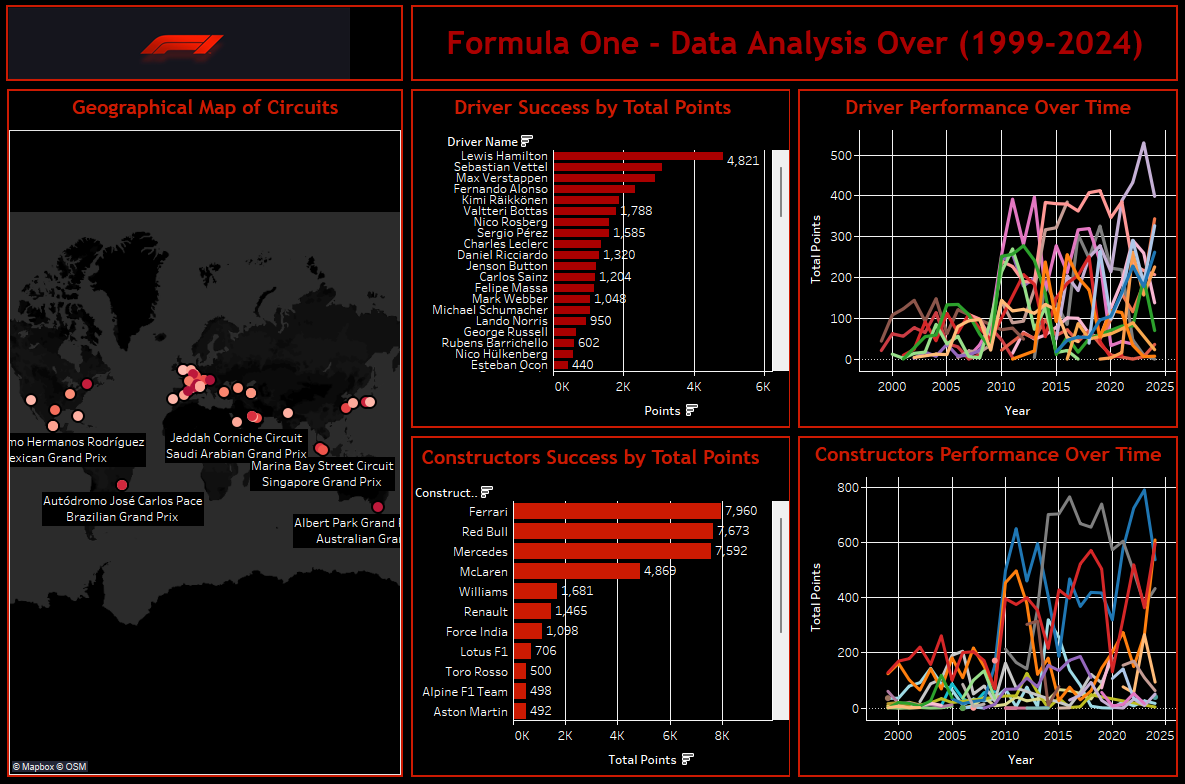

What the dashboard file says about the page in this screenshot:
{"tool":"tableau","page":{"name":"F1_25 Years of Racing","canvas":[1200,800],"ordinal":0},"visuals":[{"type":"image","param":"Image/F1 Logo.png","box":[10,10,405,84]},{"type":"text","box":[415,10,775,84]},{"type":"blank","box":[10,94,108,160]},{"type":"worksheet","title":"Geographical Map of Circuits","mark":"Automatic","rows":["lat"],"cols":["lng"],"box":[11,94,404,696]},{"type":"worksheet","title":"Most Successful Driver by Total Points","mark":"Automatic","rows":["Calculation_1403434290953232388"],"cols":["points"],"box":[414.6,94,387.7,346.8]},{"type":"worksheet","title":"Driver Performance Over Time","mark":"Line","rows":["points"],"cols":["year"],"box":[802.3,94,387.7,346.8]},{"type":"worksheet","title":"Most Successful Constructors by Points","mark":"Automatic","rows":["name_x"],"cols":["points"],"box":[414.6,440.8,387.7,349]},{"type":"worksheet","title":"Constructor Performance Over Time","mark":"Line","rows":["points"],"cols":["year"],"box":[802.3,440.8,387.7,349]}]}

Visuals, with their boxes in screenshot pixels (x1, y1, x2, y2), scaled from the page's 1200x800 canvas onto the 1185x784 screenshot:
image: {"left": 10, "top": 10, "right": 410, "bottom": 92}
text: {"left": 410, "top": 10, "right": 1175, "bottom": 92}
blank: {"left": 10, "top": 92, "right": 117, "bottom": 249}
"Geographical Map of Circuits" worksheet: {"left": 11, "top": 92, "right": 410, "bottom": 774}
"Most Successful Driver by Total Points" worksheet: {"left": 409, "top": 92, "right": 792, "bottom": 432}
"Driver Performance Over Time" worksheet (Line marks): {"left": 792, "top": 92, "right": 1175, "bottom": 432}
"Most Successful Constructors by Points" worksheet: {"left": 409, "top": 432, "right": 792, "bottom": 774}
"Constructor Performance Over Time" worksheet (Line marks): {"left": 792, "top": 432, "right": 1175, "bottom": 774}
